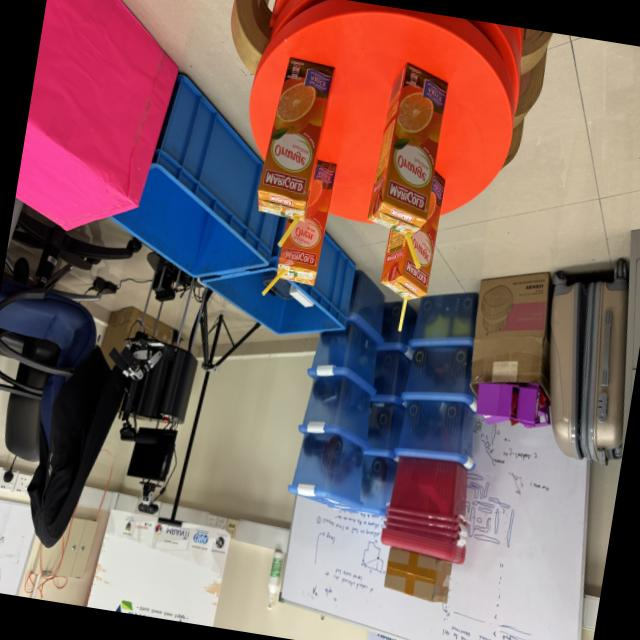drink_carton: (356, 55, 458, 252), (248, 44, 346, 232), (367, 158, 455, 346), (256, 146, 346, 313)
